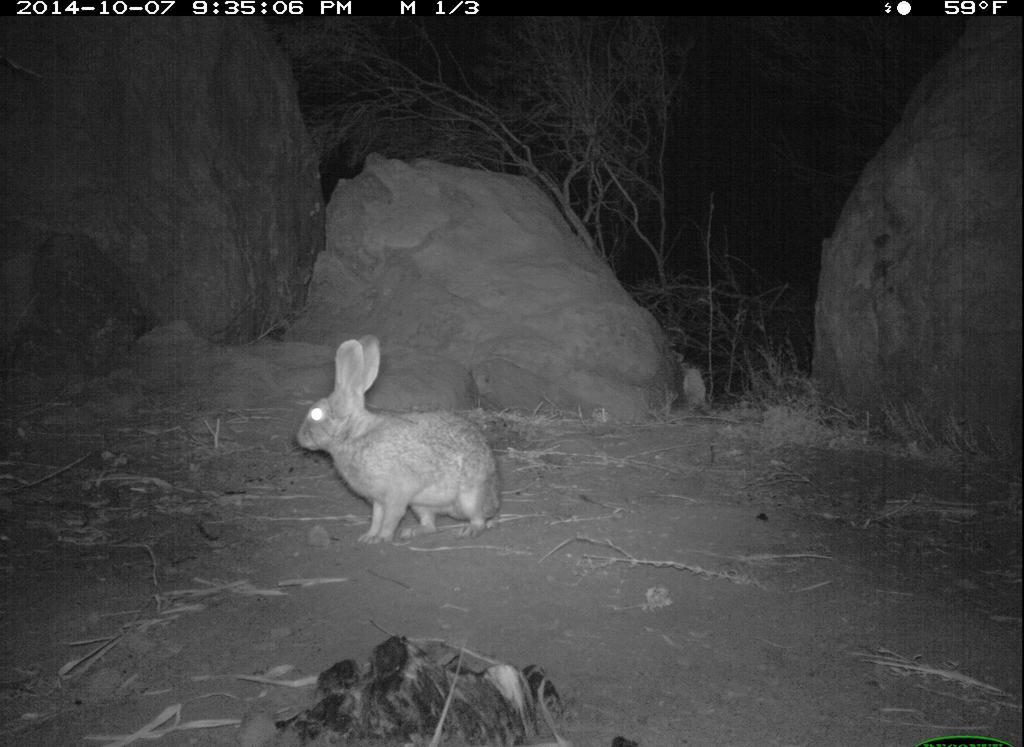rabbit: (265, 335, 536, 530)
